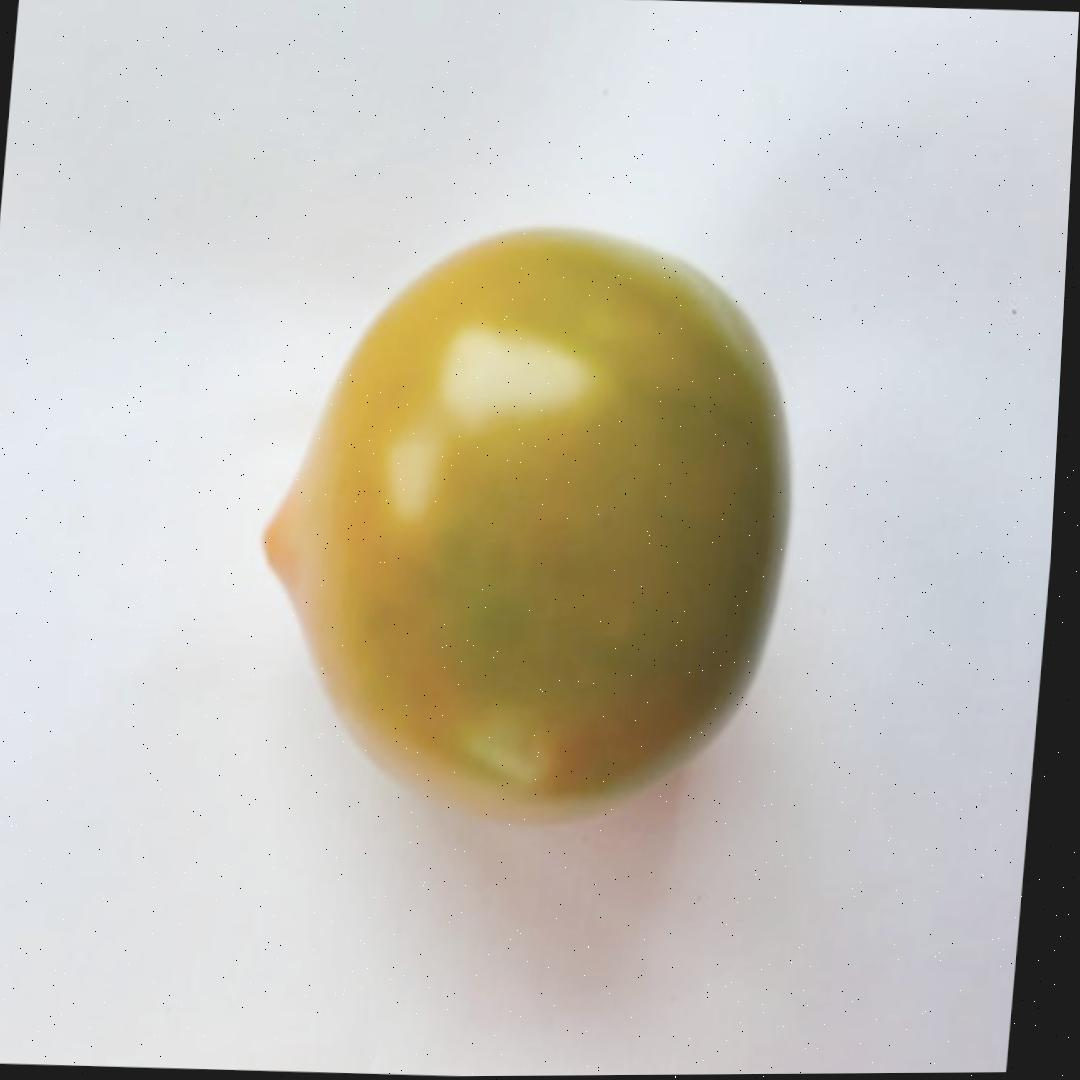setengah_matang: (232, 204, 822, 840)
